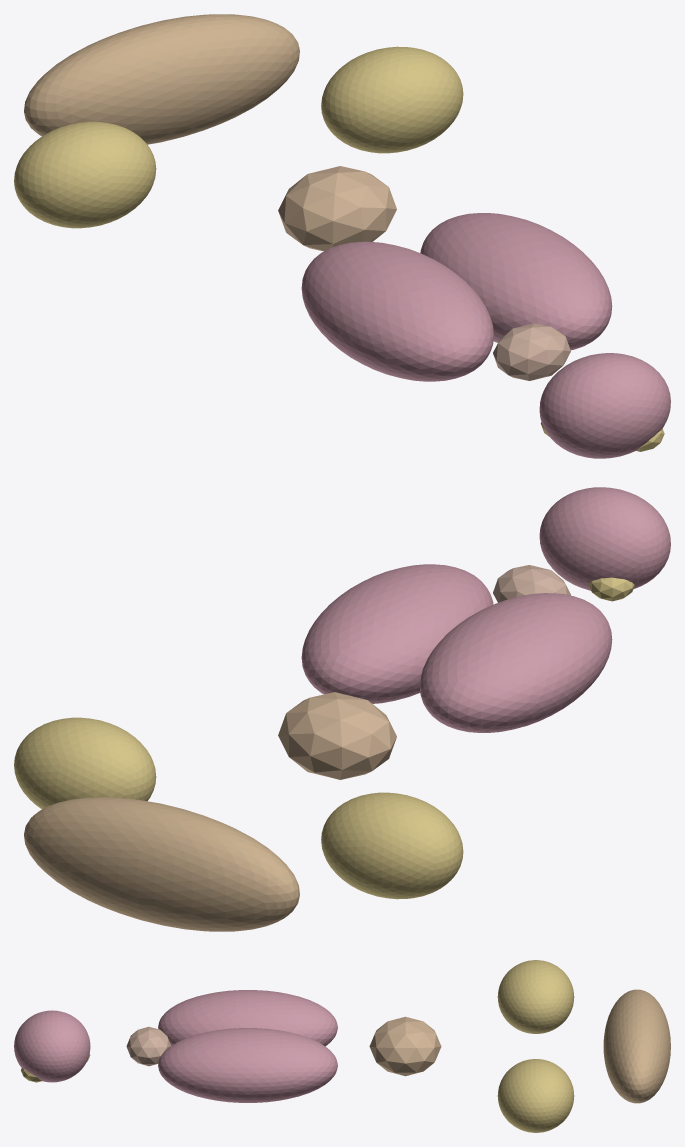
Rendered from endocrine-g3-high.glb.
The picture shows the model from 3 angles, top to bottom: view 1: azimuth 30°, elevation 25°; view 2: azimuth 150°, elevation 25°; view 3: azimuth 270°, elevation 25°; orthographic projection. The views are drawn at different scales.
Parts seen in each view (by area): view 1: pancreas_proxy, thyroid_left, thyroid_right, left_adrenal, right_adrenal, pituitary_proxy, thymus_proxy, parathyroid_region_proxy; view 2: pancreas_proxy, thyroid_left, thyroid_right, left_adrenal, pituitary_proxy, right_adrenal, thymus_proxy, parathyroid_region_proxy, pituitary_detail_proxy_1; view 3: thyroid_right, thyroid_left, pancreas_proxy, left_adrenal, right_adrenal, pituitary_proxy, thymus_proxy, parathyroid_region_proxy.
Boxes of the visible parts, x1,y1,x2,y2 form: pancreas_proxy: (24,14,299,144); thyroid_left: (301,241,493,381); thyroid_right: (420,213,612,350); left_adrenal: (14,121,156,228); right_adrenal: (321,46,463,153); pituitary_proxy: (539,353,670,458); thymus_proxy: (278,166,396,251); parathyroid_region_proxy: (493,323,570,380); pancreas_proxy: (24,797,299,931); thyroid_left: (419,593,612,732); thyroid_right: (301,564,493,703); left_adrenal: (321,792,463,899); pituitary_proxy: (539,487,670,590); right_adrenal: (14,717,156,809); thymus_proxy: (278,692,396,779); parathyroid_region_proxy: (493,565,570,602); pituitary_detail_proxy_1: (588,577,634,601); thyroid_right: (158,1028,337,1102); thyroid_left: (158,990,337,1046); pancreas_proxy: (603,989,670,1103); left_adrenal: (497,960,574,1033); right_adrenal: (497,1059,574,1132); pituitary_proxy: (14,1010,90,1082); thymus_proxy: (369,1016,441,1076); parathyroid_region_proxy: (126,1026,170,1066).
Bounding box in the file's own units: 1.48 × 0.36 × 2.92.
